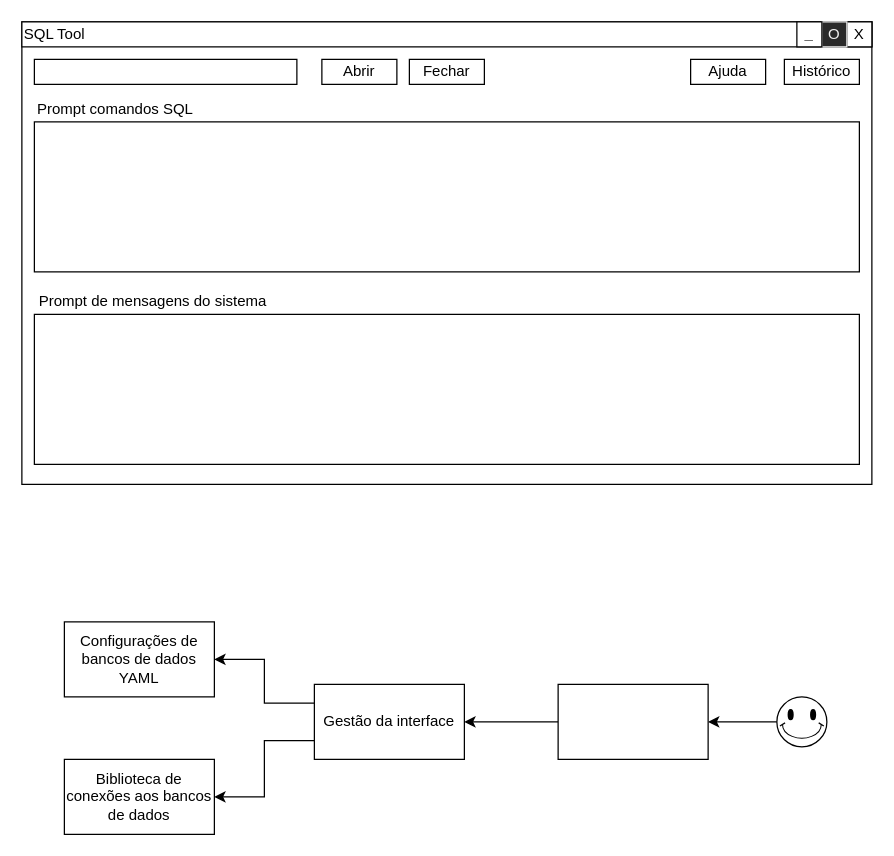
This 894x856 diagram has some shape labels left out. Here are the shapes that lost their labels. From the top down, the centre of each, then its label:
(165,71): Selecionar Conexão
(632,721): Controle da interface
